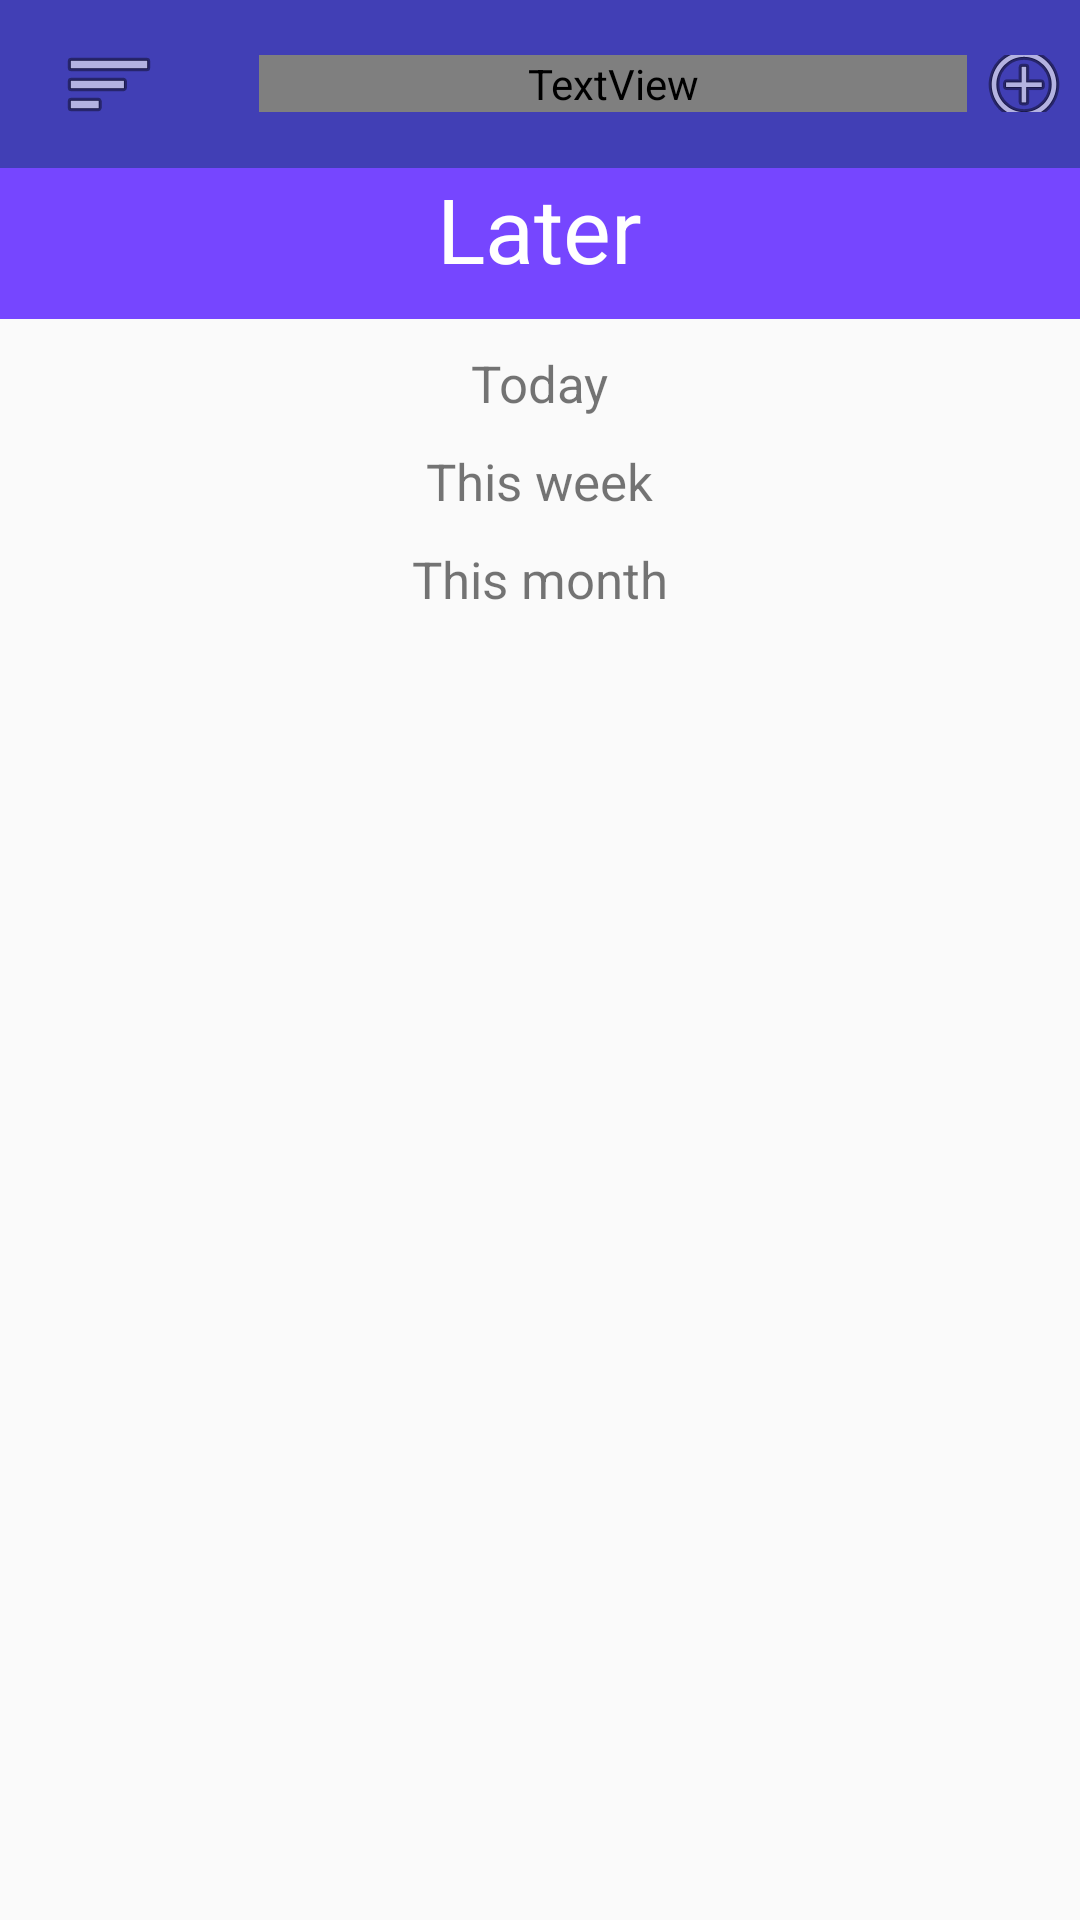

Icons on this 1080 x 1920 Android screen, each with the point to tap as [x,y]:
add: [1024,83]
sort by size: [109,84]
